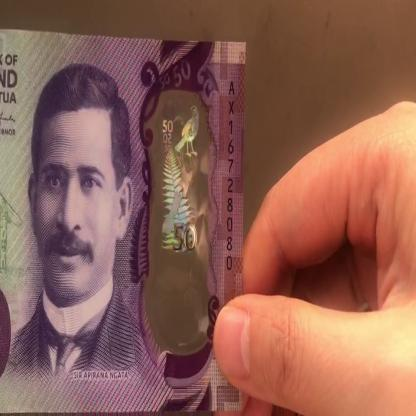50F: (158, 94, 200, 320)
